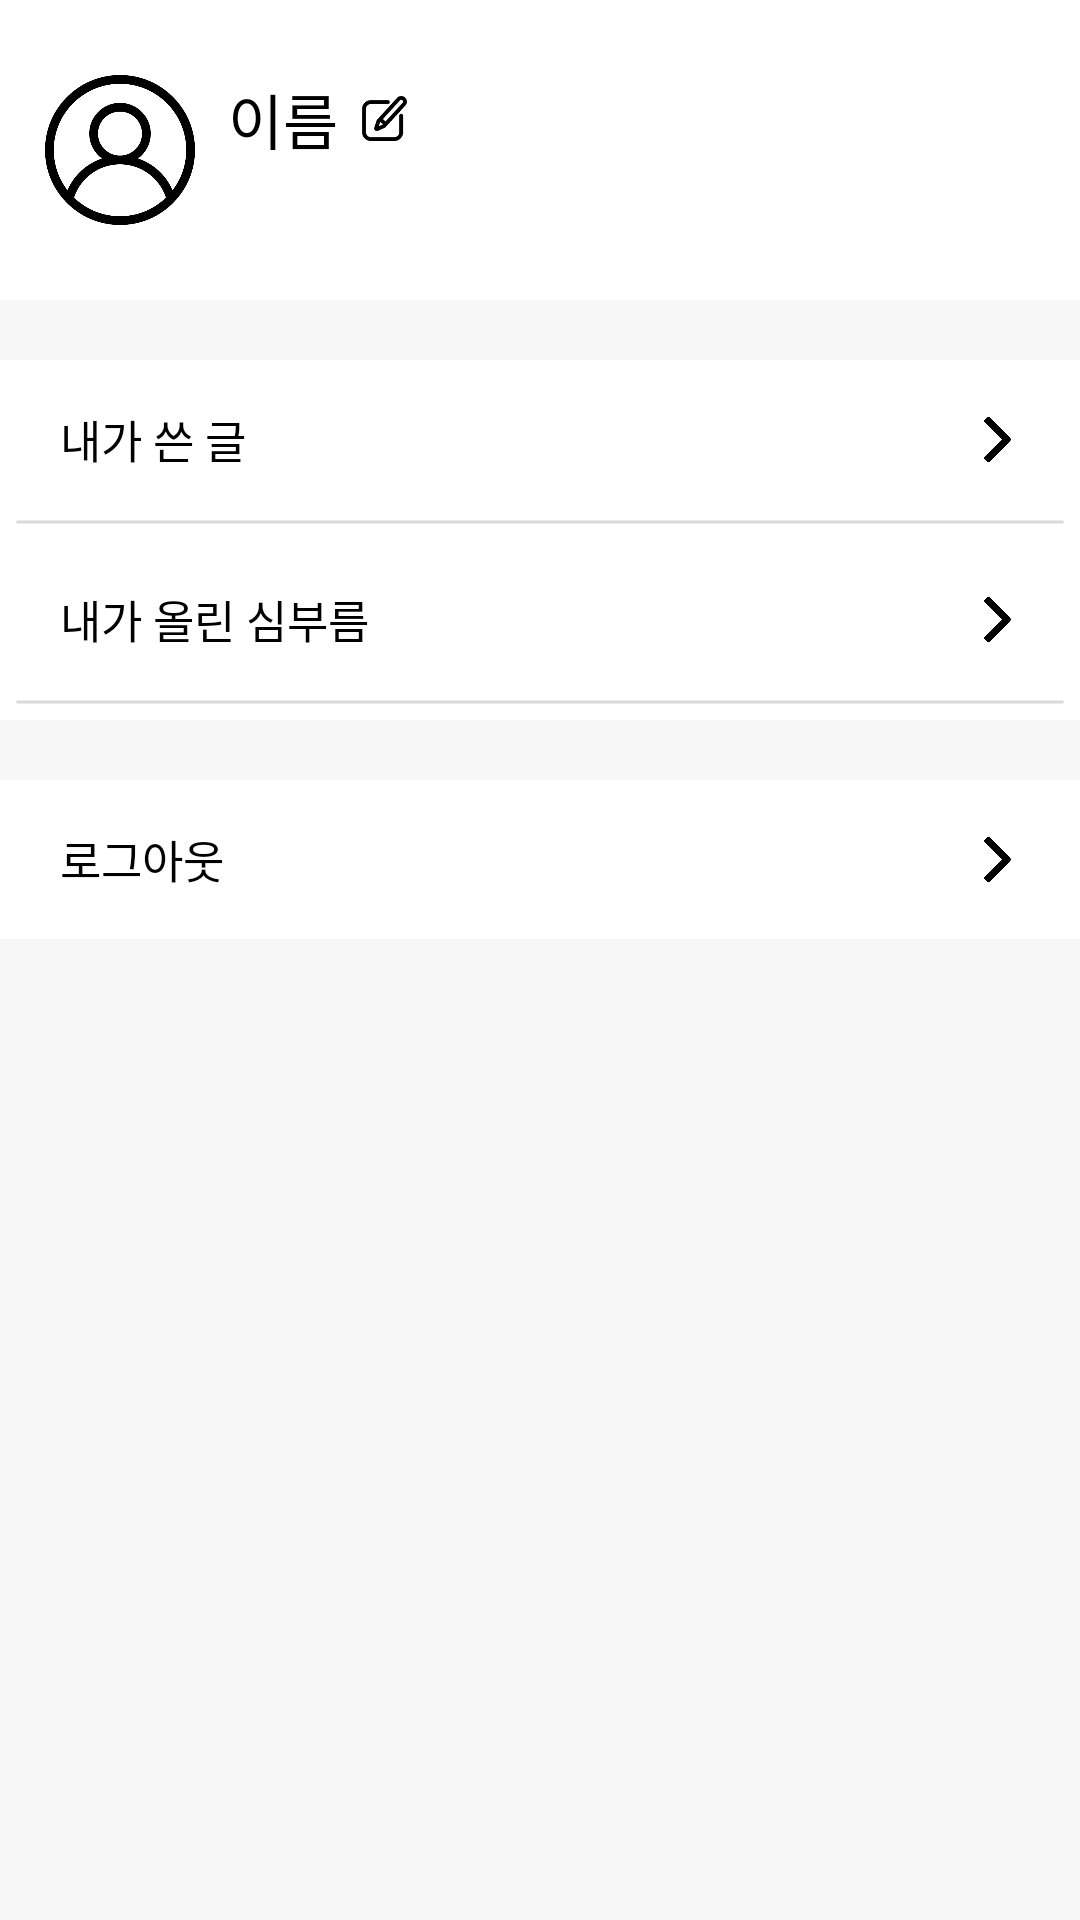

Point at icon controls on the screen. Image size 1080 × 1920, points as point (x, y).
arrow: point (997, 439), point (997, 619), point (997, 859)
change: point (384, 118)
profile: point (120, 150)
